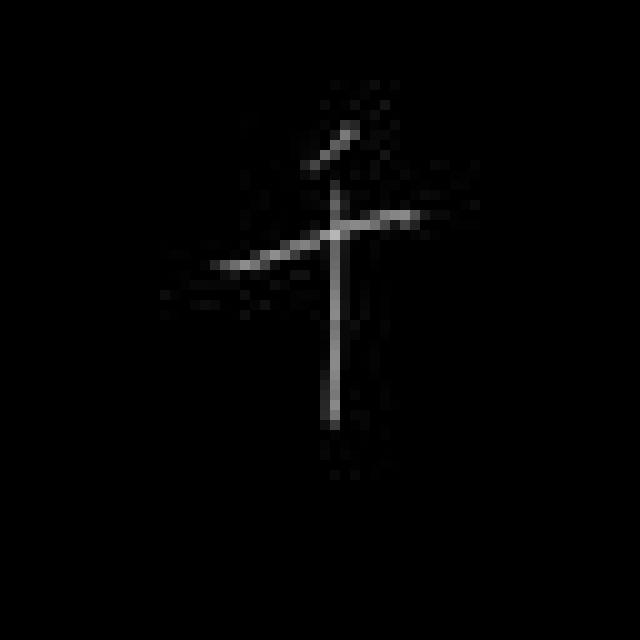1000 -a thousand-: (198, 112, 433, 442)
